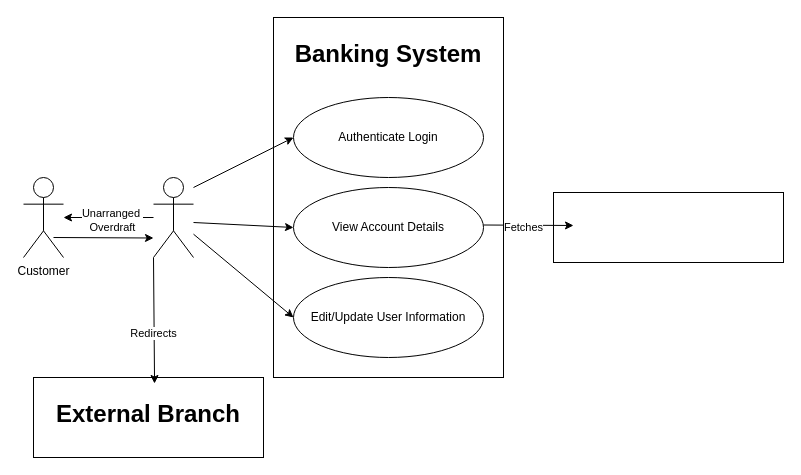
Some shapes in this 801 by 475 pixel diagram are drawn without their labels. Here are the shapes that lost their labels. From the top down, the centre of each, then its label:
At pixel 173 217: "Teller".
At pixel 668 227: ".JSON File".
